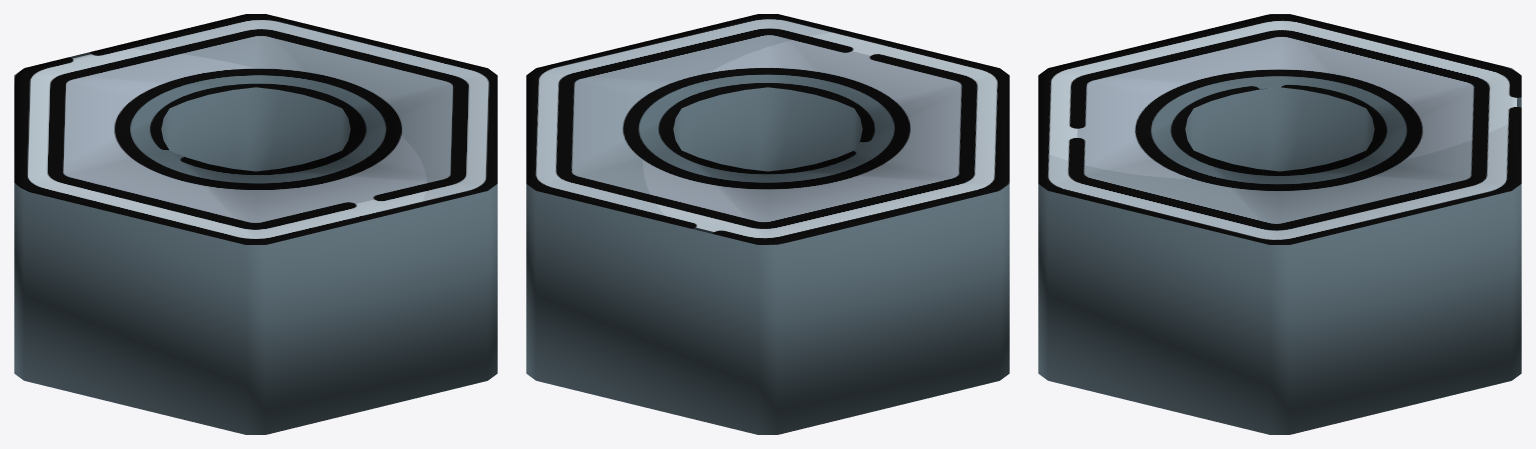
Rendered from IronTile.fbx.
The picture shows the model from 3 angles, left to right: view 1: azimuth 30°, elevation 25°; view 2: azimuth 150°, elevation 25°; view 3: azimuth 270°, elevation 25°; orthographic projection.
Visible parts, largest first — view 1: Nut; view 2: Nut; view 3: Nut.
Boxes of the visible parts, <box> form: Nut: <box>14,14,497,434</box>; Nut: <box>526,14,1009,434</box>; Nut: <box>1038,14,1521,434</box>.
Bounding box in the file's own units: 496 × 190 × 439.
1 material, 1 textured.
